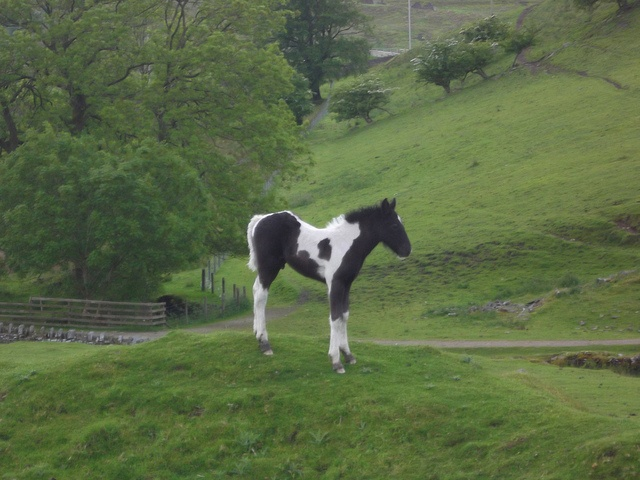horse: (248, 191, 640, 480)
